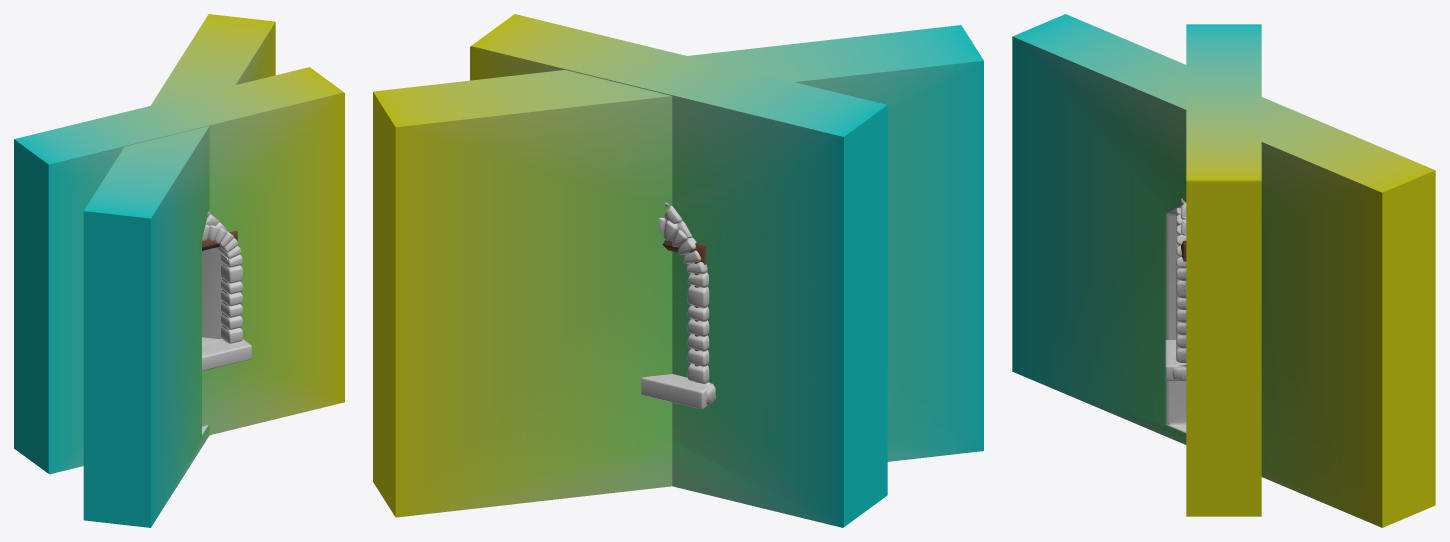
Rendered from Windows.fbx.
3 views of the same model, side by side, from view 1: azimuth 30°, elevation 25°; view 2: azimuth 150°, elevation 25°; view 3: azimuth 270°, elevation 25° (orthographic). The views are drawn at different scales.
Visible parts, largest first — view 1: Window 03 Thick, Arrow Slit Diagonal, Arrow Slit Thin Diagonal, Window 03, Window Seal 03 Thick, Arrow Slit, Window 01 Thick; view 2: Arrow Slit Diagonal, Window 02 Thick, Window 01 Thick, Window 03 Thick, Window 03, Arrow Slit Thin Diagonal, Arrow Slit, Window Seal 03 Thick; view 3: Arrow Slit Diagonal, Window 01 Thick, Arrow Slit Thin Diagonal, Window 01, Window 03 Thick, Window 03, Window Seal 03 Thick.
Boxes of the visible parts, <box> form: Window 03 Thick: <box>14,67,344,473</box>; Arrow Slit Diagonal: <box>83,14,275,527</box>; Arrow Slit Thin Diagonal: <box>103,16,255,525</box>; Window 03: <box>24,95,268,466</box>; Window Seal 03 Thick: <box>202,225,251,371</box>; Arrow Slit: <box>69,95,344,469</box>; Window 01 Thick: <box>49,93,344,473</box>; Arrow Slit Diagonal: <box>373,25,983,517</box>; Window 02 Thick: <box>470,47,842,527</box>; Window 01 Thick: <box>470,46,843,527</box>; Window 03 Thick: <box>471,14,887,527</box>; Window 03: <box>490,23,874,517</box>; Arrow Slit Thin Diagonal: <box>379,35,976,501</box>; Arrow Slit: <box>470,48,842,526</box>; Window Seal 03 Thick: <box>641,217,711,409</box>; Arrow Slit Diagonal: <box>1012,14,1435,527</box>; Window 01 Thick: <box>1184,181,1261,516</box>; Arrow Slit Thin Diagonal: <box>1029,21,1419,520</box>; Window 01: <box>1208,181,1239,516</box>; Window 03 Thick: <box>1176,24,1261,380</box>; Window 03: <box>1208,24,1239,181</box>; Window Seal 03 Thick: <box>1165,208,1186,380</box>.
Size of what is drawn, in the model's own units: 3.43 by 3.01 by 3.43.
